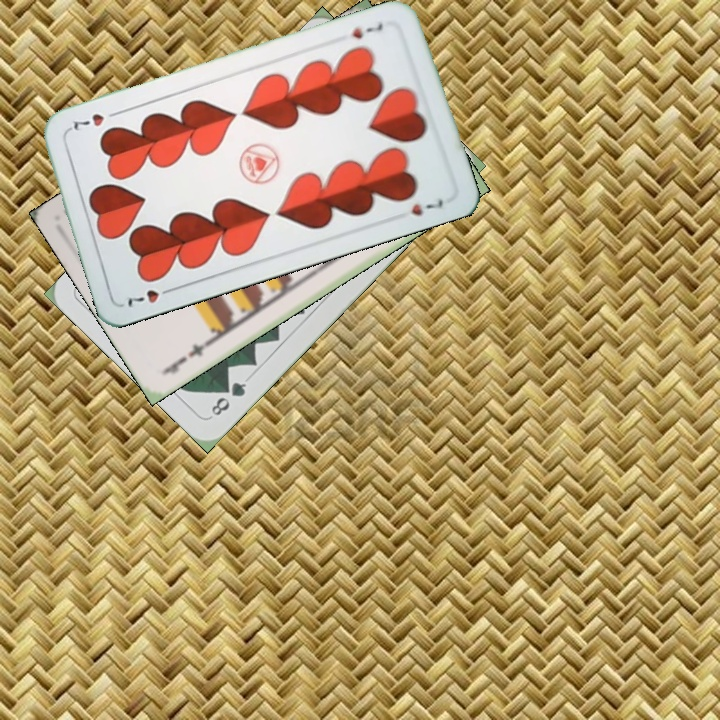E7: (159, 336, 213, 377)
G8: (206, 378, 250, 419)
H7: (121, 283, 178, 310), (348, 19, 385, 42)
